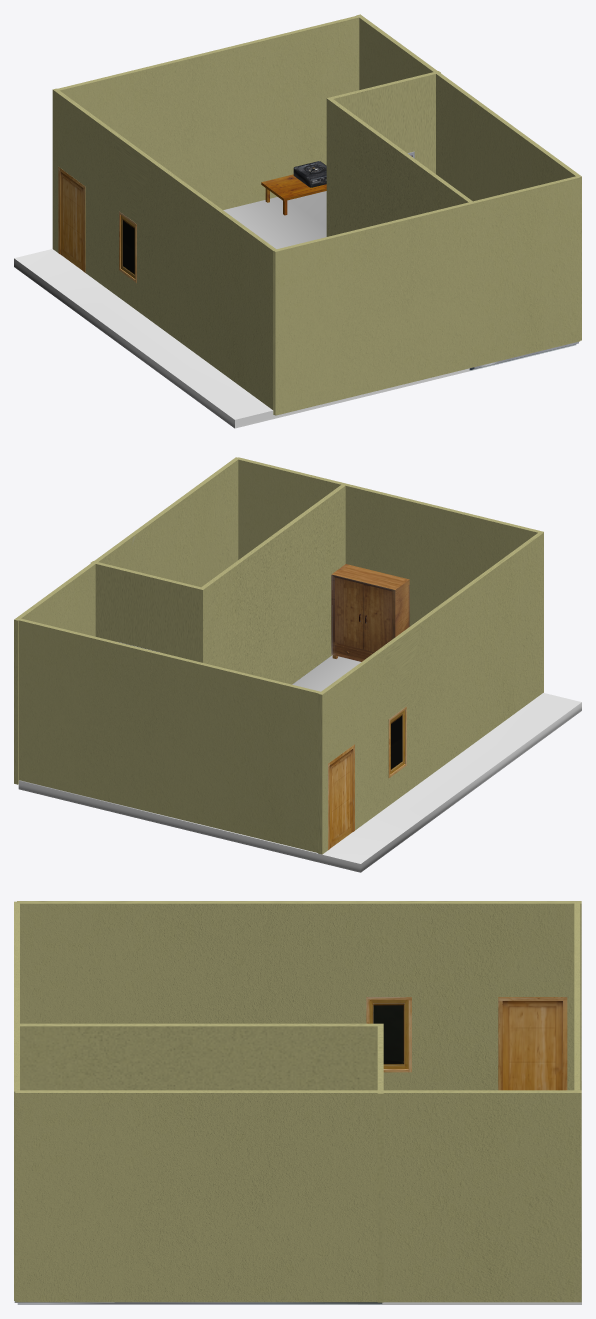
The model's file is kos 1.fbx.
The picture shows the model from 3 angles, top to bottom: view 1: azimuth 30°, elevation 25°; view 2: azimuth 150°, elevation 25°; view 3: azimuth 270°, elevation 25°; orthographic projection. The views are drawn at different scales.
Parts seen in each view (by area): view 1: Cube.002, Cube.005, Cube.001, Cube.004, lantai, Cube.003, pintu, meja, Cube, kompor, KPintu1; view 2: Cube.001, Cube.005, Cube.004, Cube.002, lantai, Cube.003, Lemari, pintu, PLemariL, PLemariR, Cube; view 3: Cube.003, Cube.005, Cube.004, pintu, Cube, Cube.002, Cube.001, KPintu1, lantai.001, lantai, KJendela1.
Part boxes in pixels (bbox=[...]): Cube.002: bbox=[274, 176, 580, 415]; Cube.005: bbox=[52, 88, 276, 414]; Cube.001: bbox=[54, 15, 360, 209]; Cube.004: bbox=[326, 71, 473, 236]; lantai: bbox=[14, 191, 469, 428]; Cube.003: bbox=[356, 14, 581, 340]; pintu: bbox=[60, 171, 83, 270]; meja: bbox=[261, 174, 326, 215]; Cube: bbox=[121, 215, 135, 278]; kompor: bbox=[293, 161, 326, 187]; KPintu1: bbox=[58, 167, 85, 272]; Cube.001: bbox=[17, 618, 323, 852]; Cube.005: bbox=[318, 532, 543, 854]; Cube.004: bbox=[91, 484, 346, 684]; Cube.002: bbox=[238, 457, 543, 692]; lantai: bbox=[18, 655, 581, 872]; Cube.003: bbox=[14, 457, 239, 784]; Lemari: bbox=[331, 564, 409, 661]; pintu: bbox=[329, 749, 352, 848]; PLemariL: bbox=[335, 577, 363, 649]; PLemariR: bbox=[363, 584, 392, 652]; Cube: bbox=[390, 710, 404, 773]; Cube.003: bbox=[15, 1090, 581, 1302]; Cube.005: bbox=[17, 901, 581, 1090]; Cube.004: bbox=[17, 1023, 383, 1302]; pintu: bbox=[502, 1001, 562, 1090]; Cube: bbox=[369, 1000, 408, 1068]; Cube.002: bbox=[14, 901, 19, 1300]; Cube.001: bbox=[574, 901, 580, 1091]; KPintu1: bbox=[498, 997, 567, 1090]; lantai.001: bbox=[17, 1302, 382, 1304]; lantai: bbox=[382, 1081, 581, 1304]; KJendela1: bbox=[366, 997, 411, 1072].
Size of the model in its own units: 1676 by 776 by 1858.
25 materials, 25 textured.
